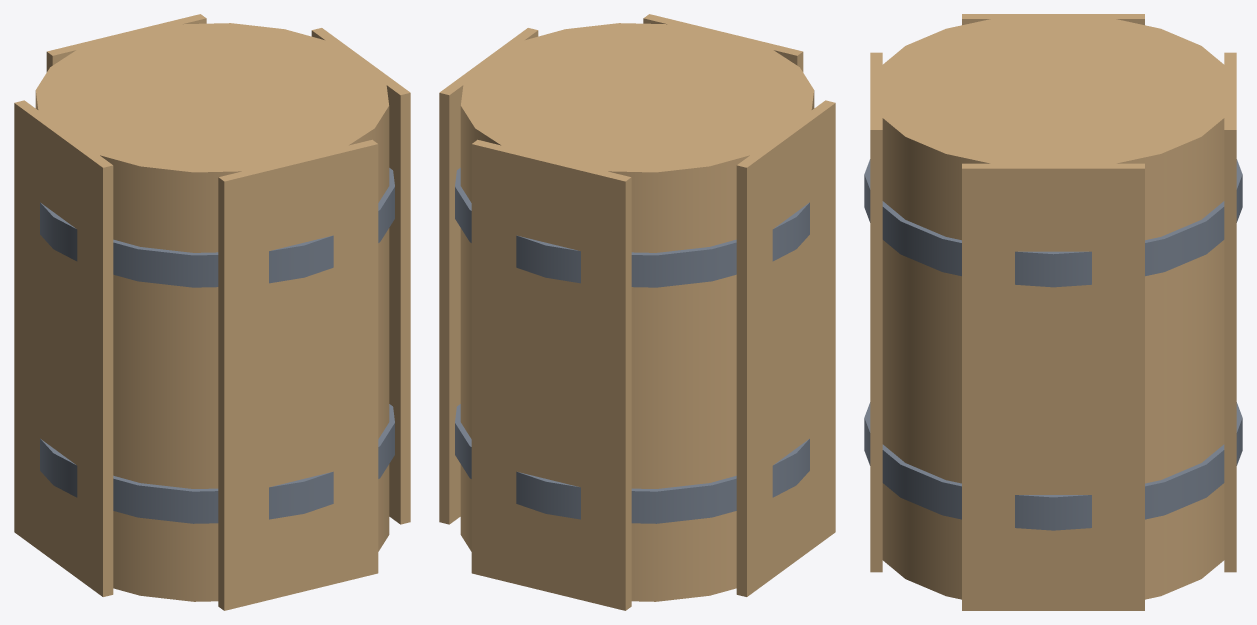
The model's file is prop_barrel.glb.
3 renders of one model, left to right at view 1: azimuth 30°, elevation 25°; view 2: azimuth 150°, elevation 25°; view 3: azimuth 270°, elevation 25°, orthographic. The views are drawn at different scales.
Visible parts, largest first — view 1: Barrel, Debris_4, Debris_3, Debris_1, Debris_2; view 2: Barrel, Debris_2, Debris_3, Debris_1, Debris_4; view 3: Barrel, Debris_1, Debris_2, Debris_4, Debris_3.
Boxes of the visible parts, x1,y1,x2,y2 form: Barrel: (35, 23, 394, 601); Debris_4: (218, 139, 378, 610); Debris_3: (14, 100, 113, 596); Debris_1: (311, 28, 410, 524); Debris_2: (46, 14, 206, 72); Barrel: (455, 23, 814, 601); Debris_2: (471, 139, 631, 610); Debris_3: (736, 100, 835, 596); Debris_1: (439, 28, 538, 524); Debris_4: (643, 14, 803, 72); Barrel: (864, 14, 1242, 609); Debris_1: (962, 163, 1144, 610); Debris_2: (1224, 52, 1236, 572); Debris_4: (870, 52, 882, 572); Debris_3: (962, 14, 1144, 25).
Size of the model in its own units: 0.62 by 0.8 by 0.62.
